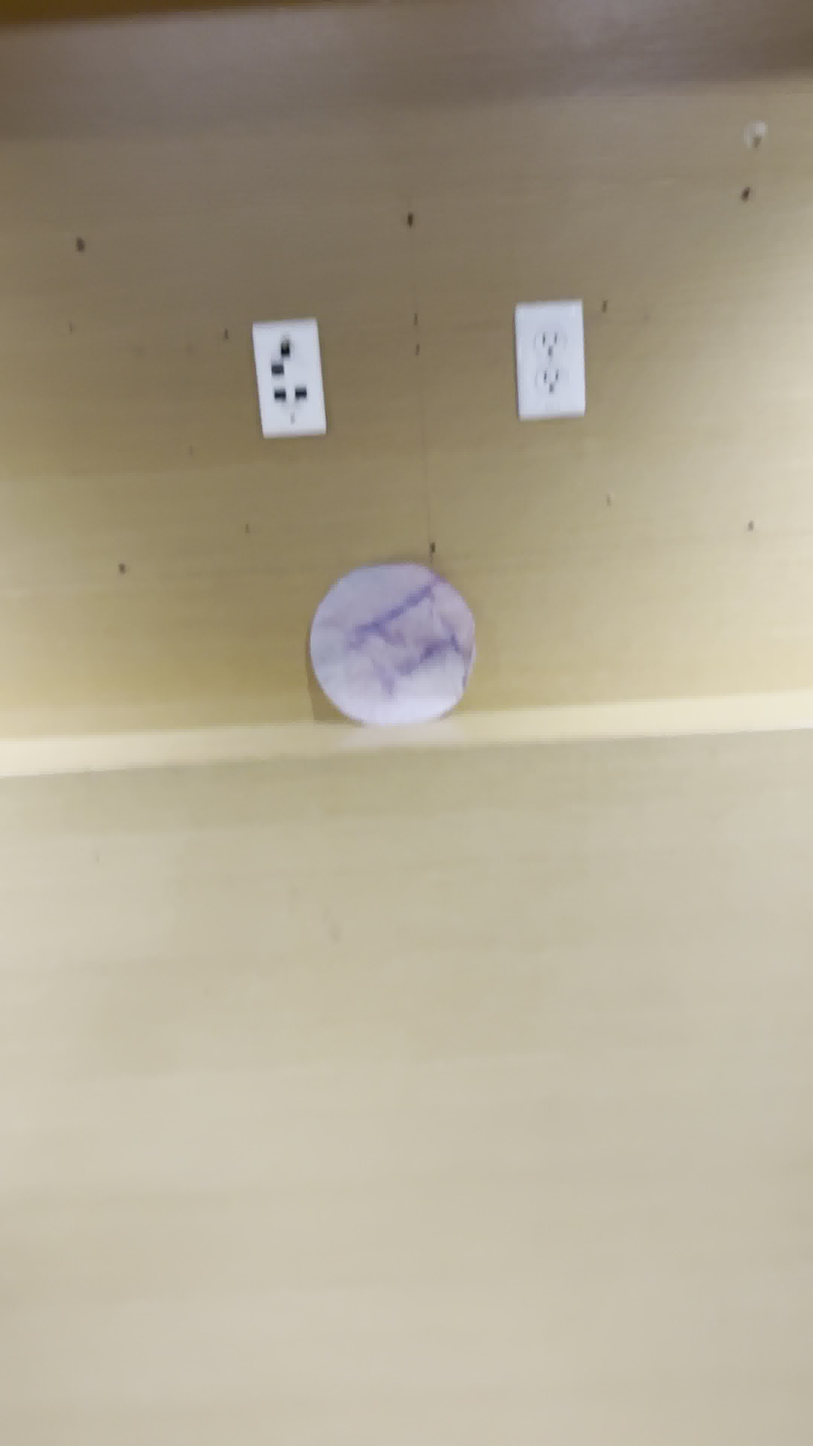Target: (303, 561, 469, 725)
